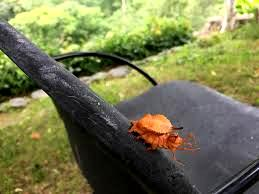Lobster Moth: (127, 115, 203, 155)
